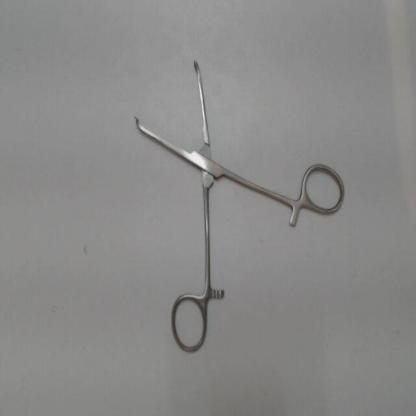Allis Tissue Forceps: (124, 48, 351, 362)
